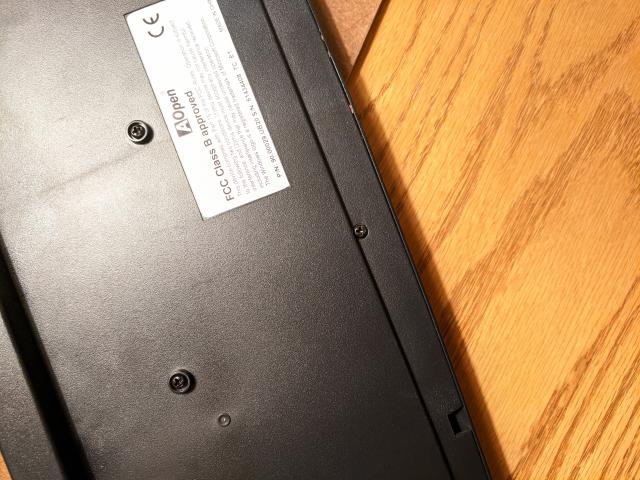CRS: (128, 122, 148, 140), (172, 374, 186, 390), (354, 226, 368, 238)
